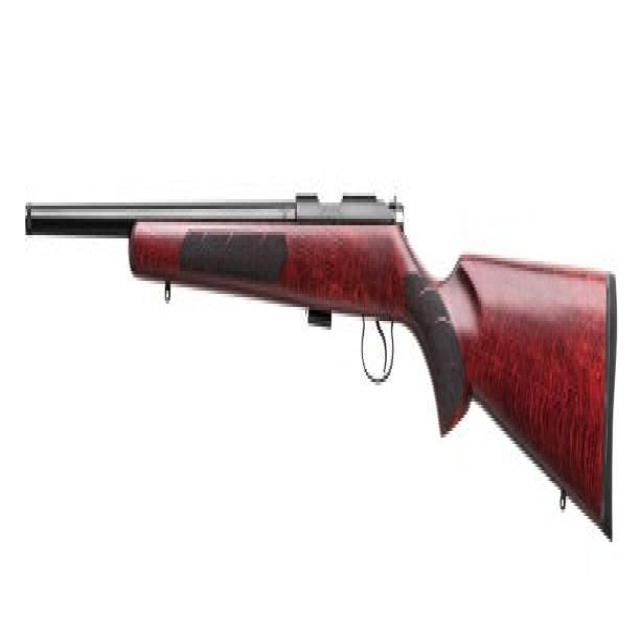rifle: (20, 173, 620, 550)
